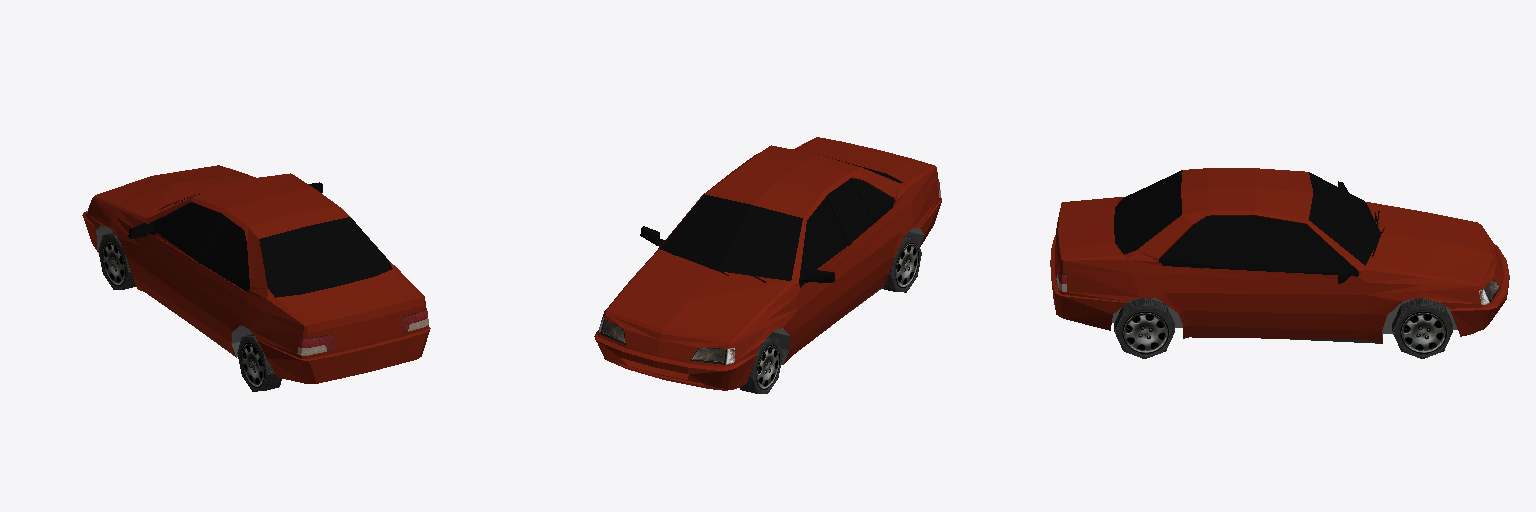
3 renders of one model, left to right at view 1: azimuth 30°, elevation 25°; view 2: azimuth 150°, elevation 25°; view 3: azimuth 270°, elevation 25°, orthographic.
Parts seen in each view (by area): view 1: default; view 2: default; view 3: default.
Boxes of the visible parts, x1=… form: default: x1=82, y1=165, x2=430, y2=391; default: x1=594, y1=137, x2=941, y2=393; default: x1=1050, y1=168, x2=1509, y2=358.
Bounding box in the file's own units: 213 × 145 × 441.
Materials: 7 (3 with a texture image).